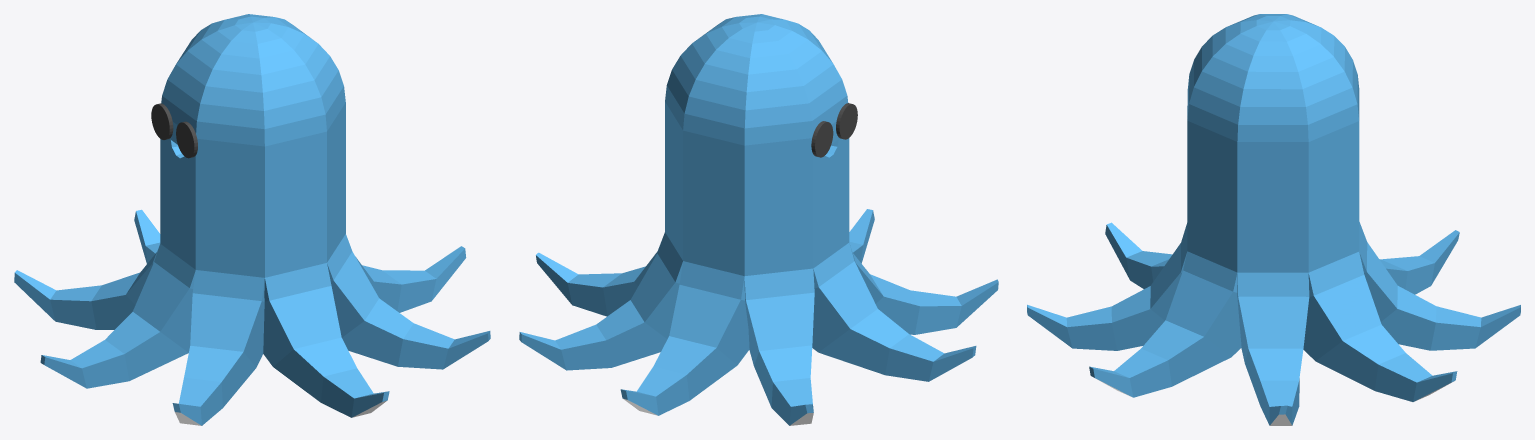
File: Alien.fbx
3 renders of one model, left to right at view 1: azimuth 30°, elevation 25°; view 2: azimuth 150°, elevation 25°; view 3: azimuth 270°, elevation 25°, orthographic.
Parts seen in each view (by area): view 1: Sphere, Sphere.001; view 2: Sphere, Sphere.001; view 3: Sphere.
Part boxes in pixels (x1=…): Sphere: x1=14, y1=14, x2=490, y2=425; Sphere.001: x1=151, y1=103, x2=197, y2=158; Sphere: x1=519, y1=14, x2=998, y2=425; Sphere.001: x1=811, y1=103, x2=857, y2=157; Sphere: x1=1027, y1=14, x2=1520, y2=425.
Bounding box in the file's own units: 143 × 102 × 143.
